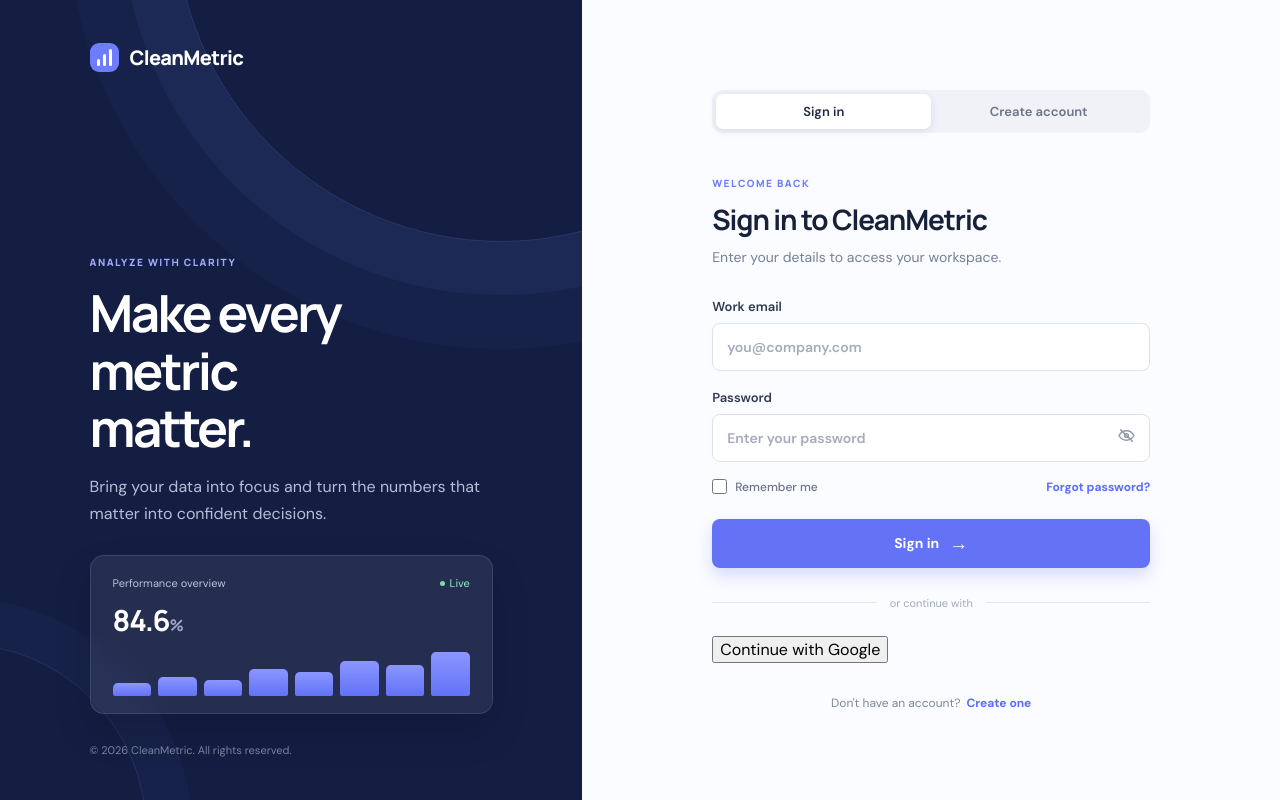
it: Google Sign-In integration › keeps Google-owned DOM isolated from React during auth-page rerenders
Expected: the button "Continue with Google" is shown, [712,636,888,663]
Click the tab "Create account": (1039,111) [931,94,1146,128]
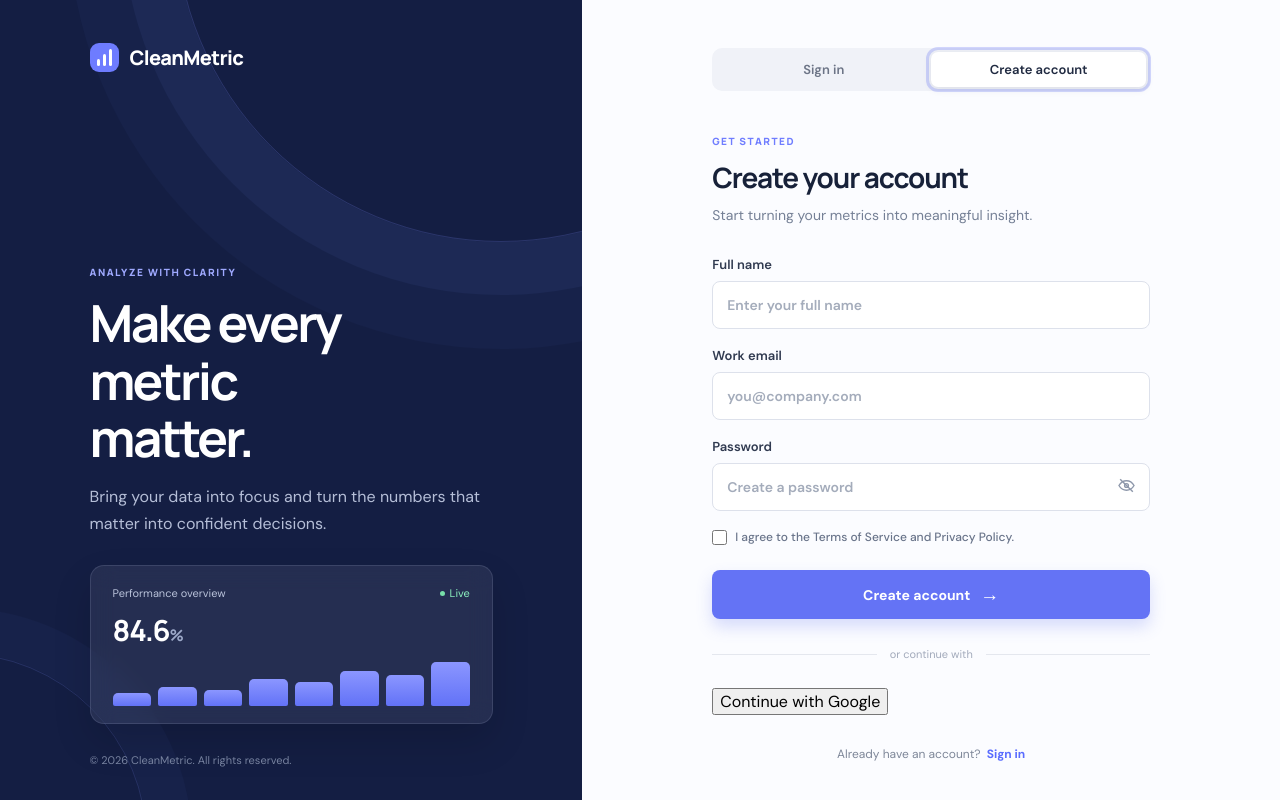
Expected: the heading "Create your account" is shown, [712,158,968,196]
Click the tab "Sign in": (824,70) [716,52,931,87]
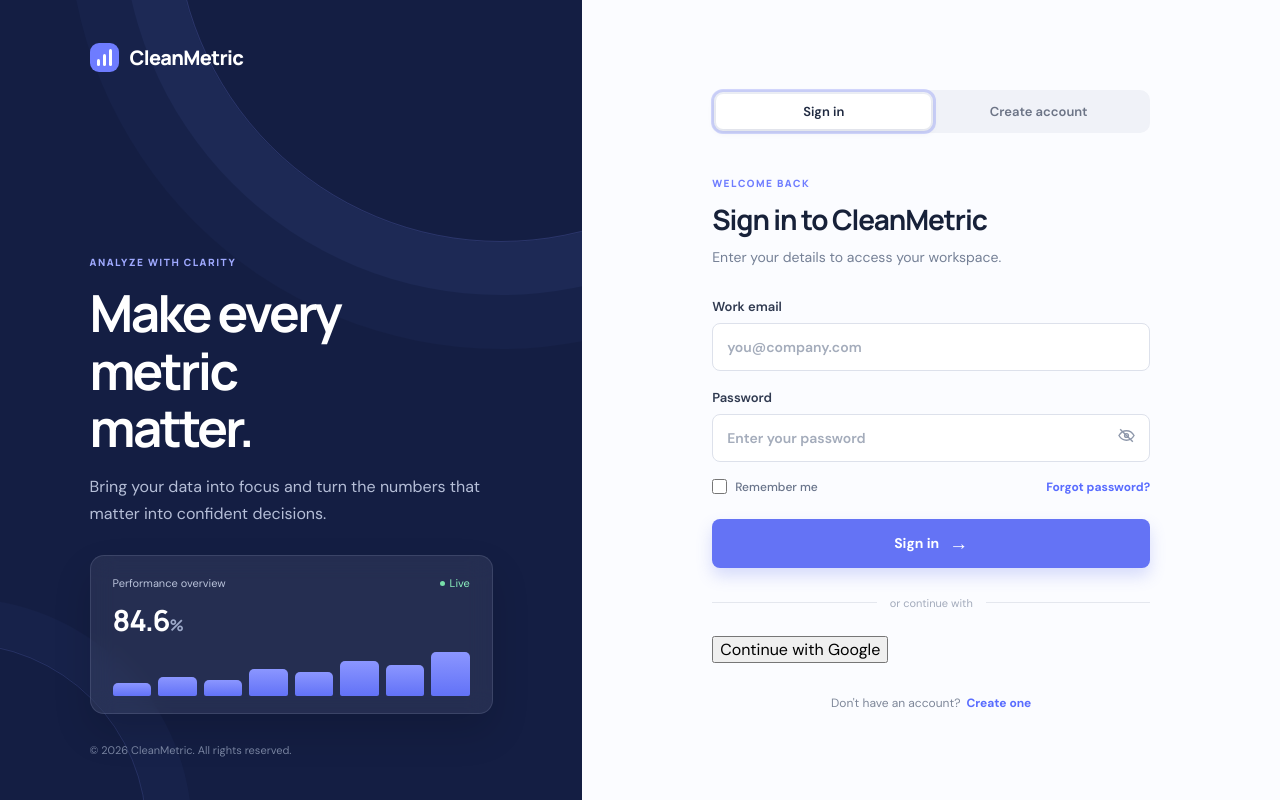
Expected: the button "Continue with Google" is shown, [712,636,888,663]
Expected: the heading "Sign in to CleanMetric" is shown, [712,200,987,238]
